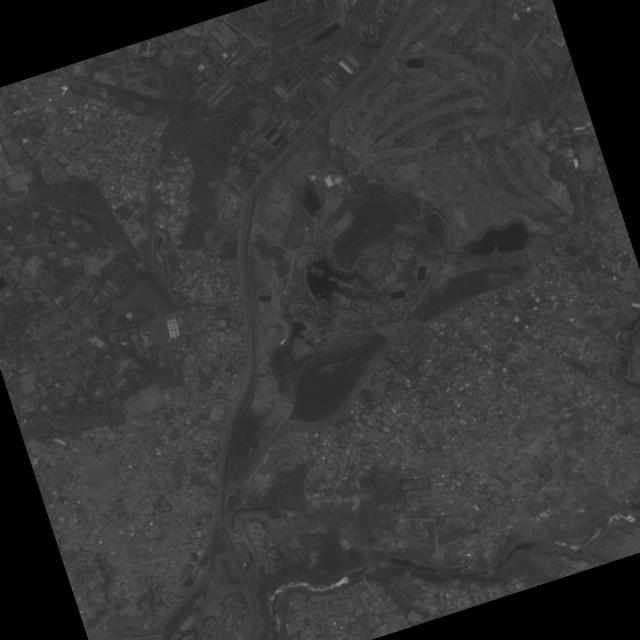storage-tank: (95, 249, 110, 263), (64, 239, 78, 253), (59, 255, 73, 269), (23, 231, 36, 245), (45, 249, 58, 261), (82, 243, 93, 254), (28, 210, 39, 220), (57, 230, 66, 238), (5, 225, 13, 232), (4, 291, 11, 298), (4, 301, 10, 306), (13, 296, 18, 301), (22, 290, 27, 294), (28, 298, 32, 302)
